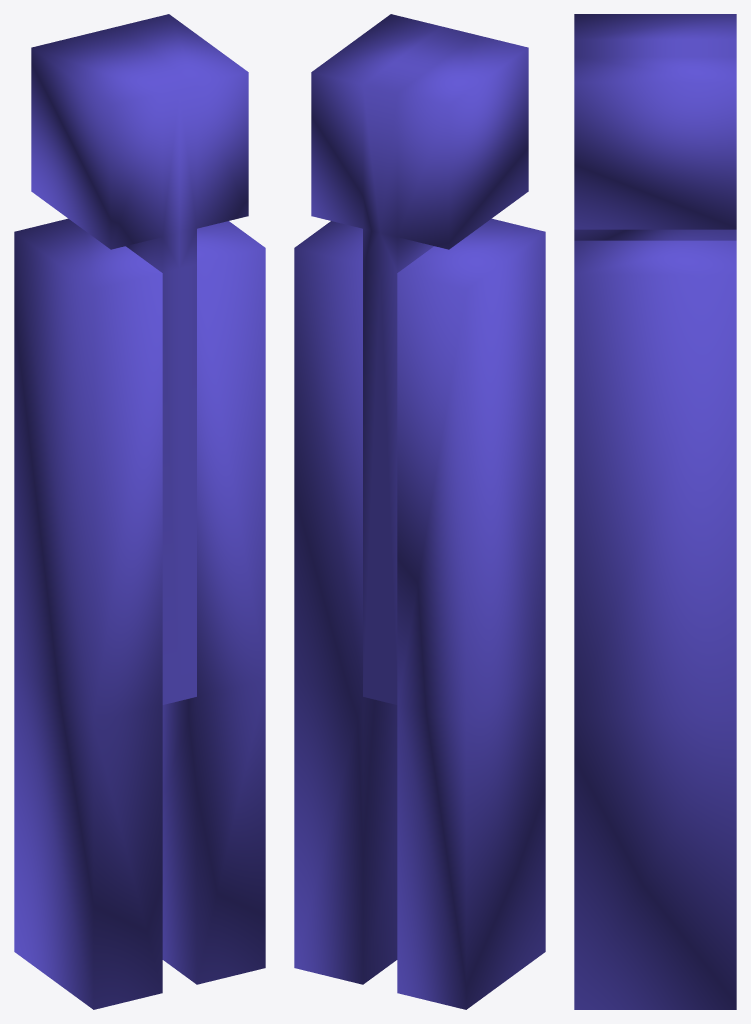
Rendered from upperLeftChar.fbx.
The picture shows the model from 3 angles, left to right: view 1: azimuth 30°, elevation 25°; view 2: azimuth 150°, elevation 25°; view 3: azimuth 270°, elevation 25°; orthographic projection. The views are drawn at different scales.
Parts seen in each view (by area): view 1: Cube; view 2: Cube; view 3: Cube.
Boxes of the visible parts, x1,y1,x2,y2 form: Cube: (14, 14, 265, 1009); Cube: (294, 14, 545, 1009); Cube: (574, 14, 736, 1009).
Bounding box in the file's own units: 0.4 × 2 × 0.32.
